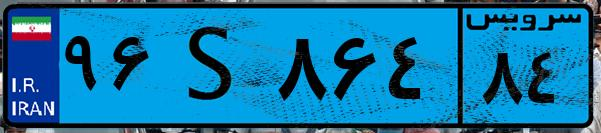4: (385, 28, 445, 110), (525, 38, 570, 115)
6: (330, 28, 385, 110), (110, 28, 158, 98)
8: (270, 28, 330, 110), (475, 38, 525, 113)
9: (57, 26, 110, 100)
S: (158, 12, 270, 120)
